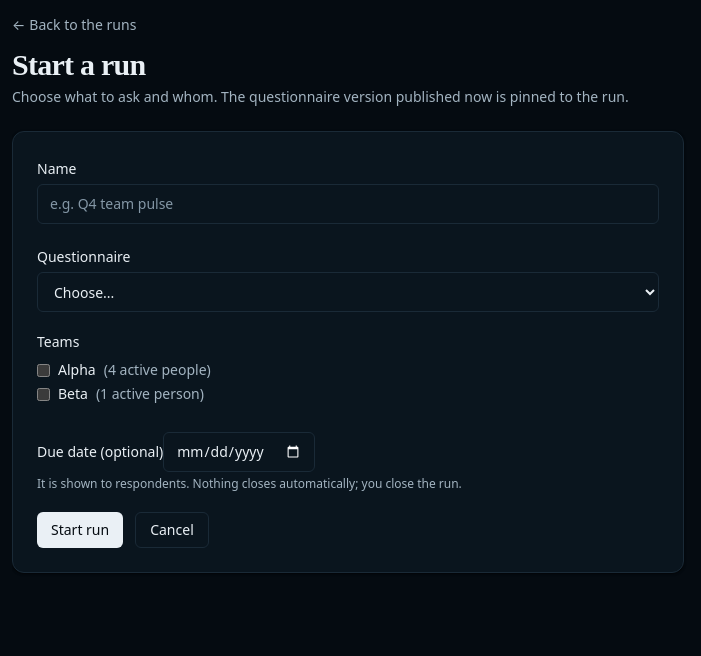
Test case: StartRunPage › shows the reason when the server refuses
Type "Q4" into the field labelled "Name" at (348, 204), box [37, 184, 659, 224]
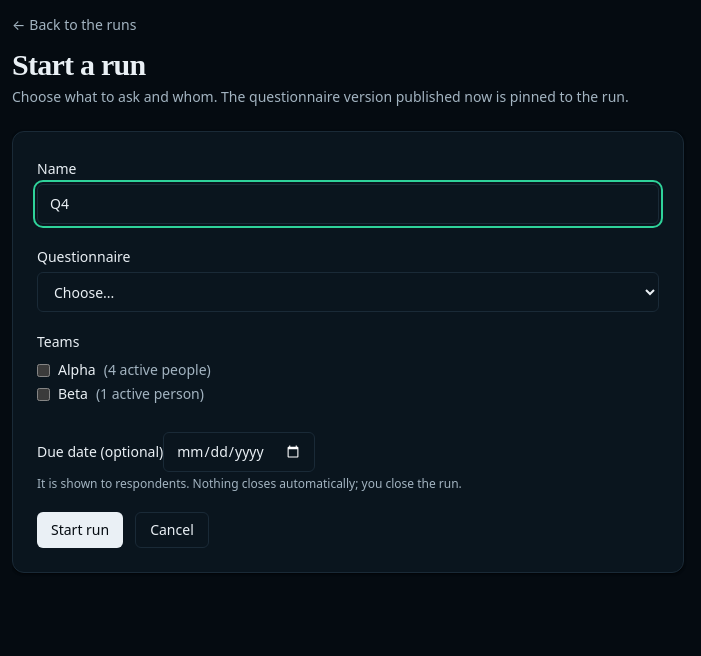
Select "Team pulse (v2)" in the dropdown labelled "Questionnaire" at (348, 292), box [37, 272, 659, 312]
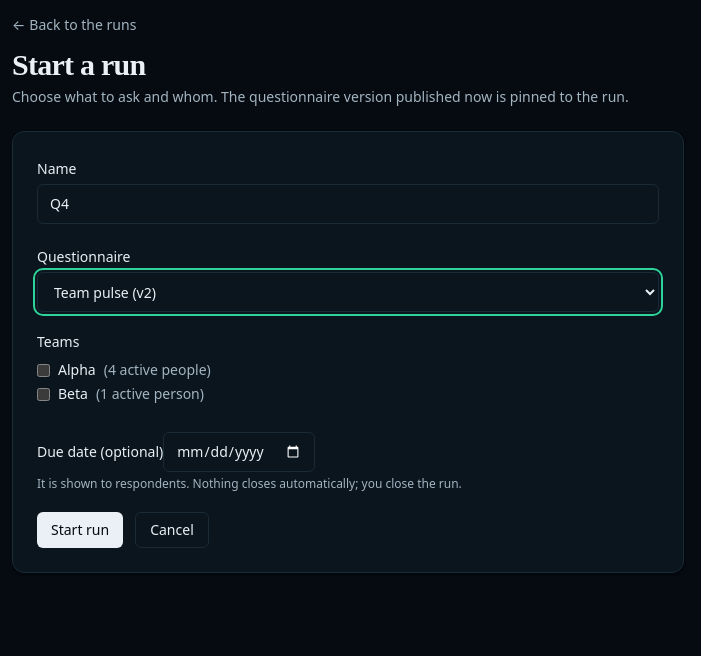
Click the checkbox labelled "Alpha (4 active people)" at (44, 370), box [37, 364, 50, 376]
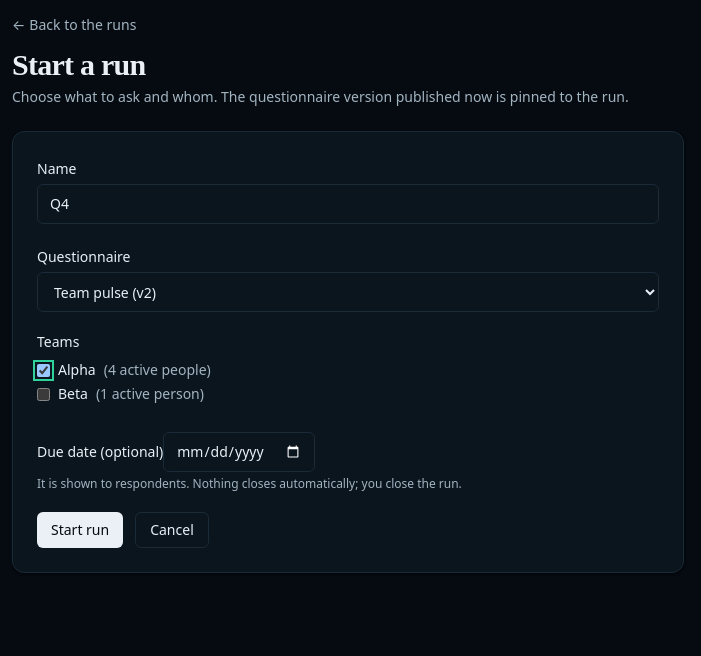
Click the button "Start run" at (80, 530), box [37, 512, 123, 548]
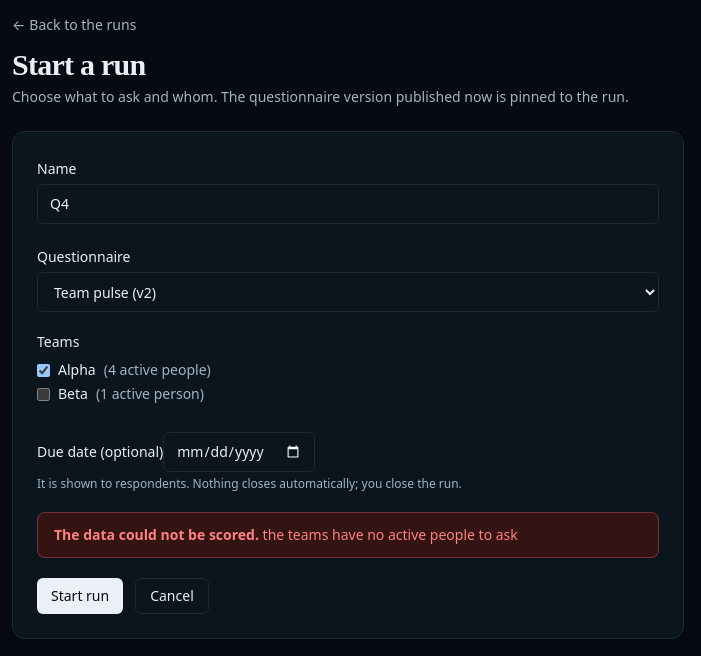
Check: the text "the teams have no active people to ask" is shown, box [263, 525, 518, 544]
